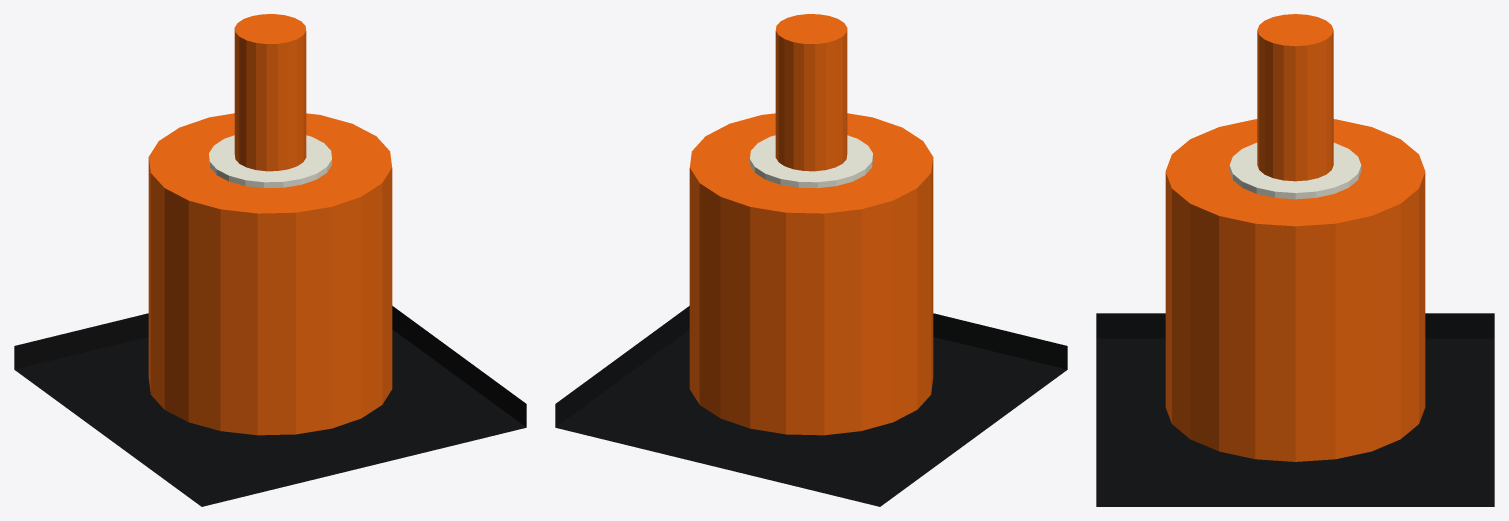
The model's file is construction_cone.obj.
The picture shows the model from 3 angles, left to right: view 1: azimuth 30°, elevation 25°; view 2: azimuth 150°, elevation 25°; view 3: azimuth 270°, elevation 25°; orthographic projection. The views are drawn at different scales.
Visible parts, largest first — view 1: construction_cone; view 2: construction_cone; view 3: construction_cone.
Part boxes in pixels (<box>): construction_cone: <box>14,14,526,506</box>; construction_cone: <box>555,14,1067,506</box>; construction_cone: <box>1096,14,1494,506</box>.
Size of the model in its own units: 2.3 by 2.5 by 2.3.
